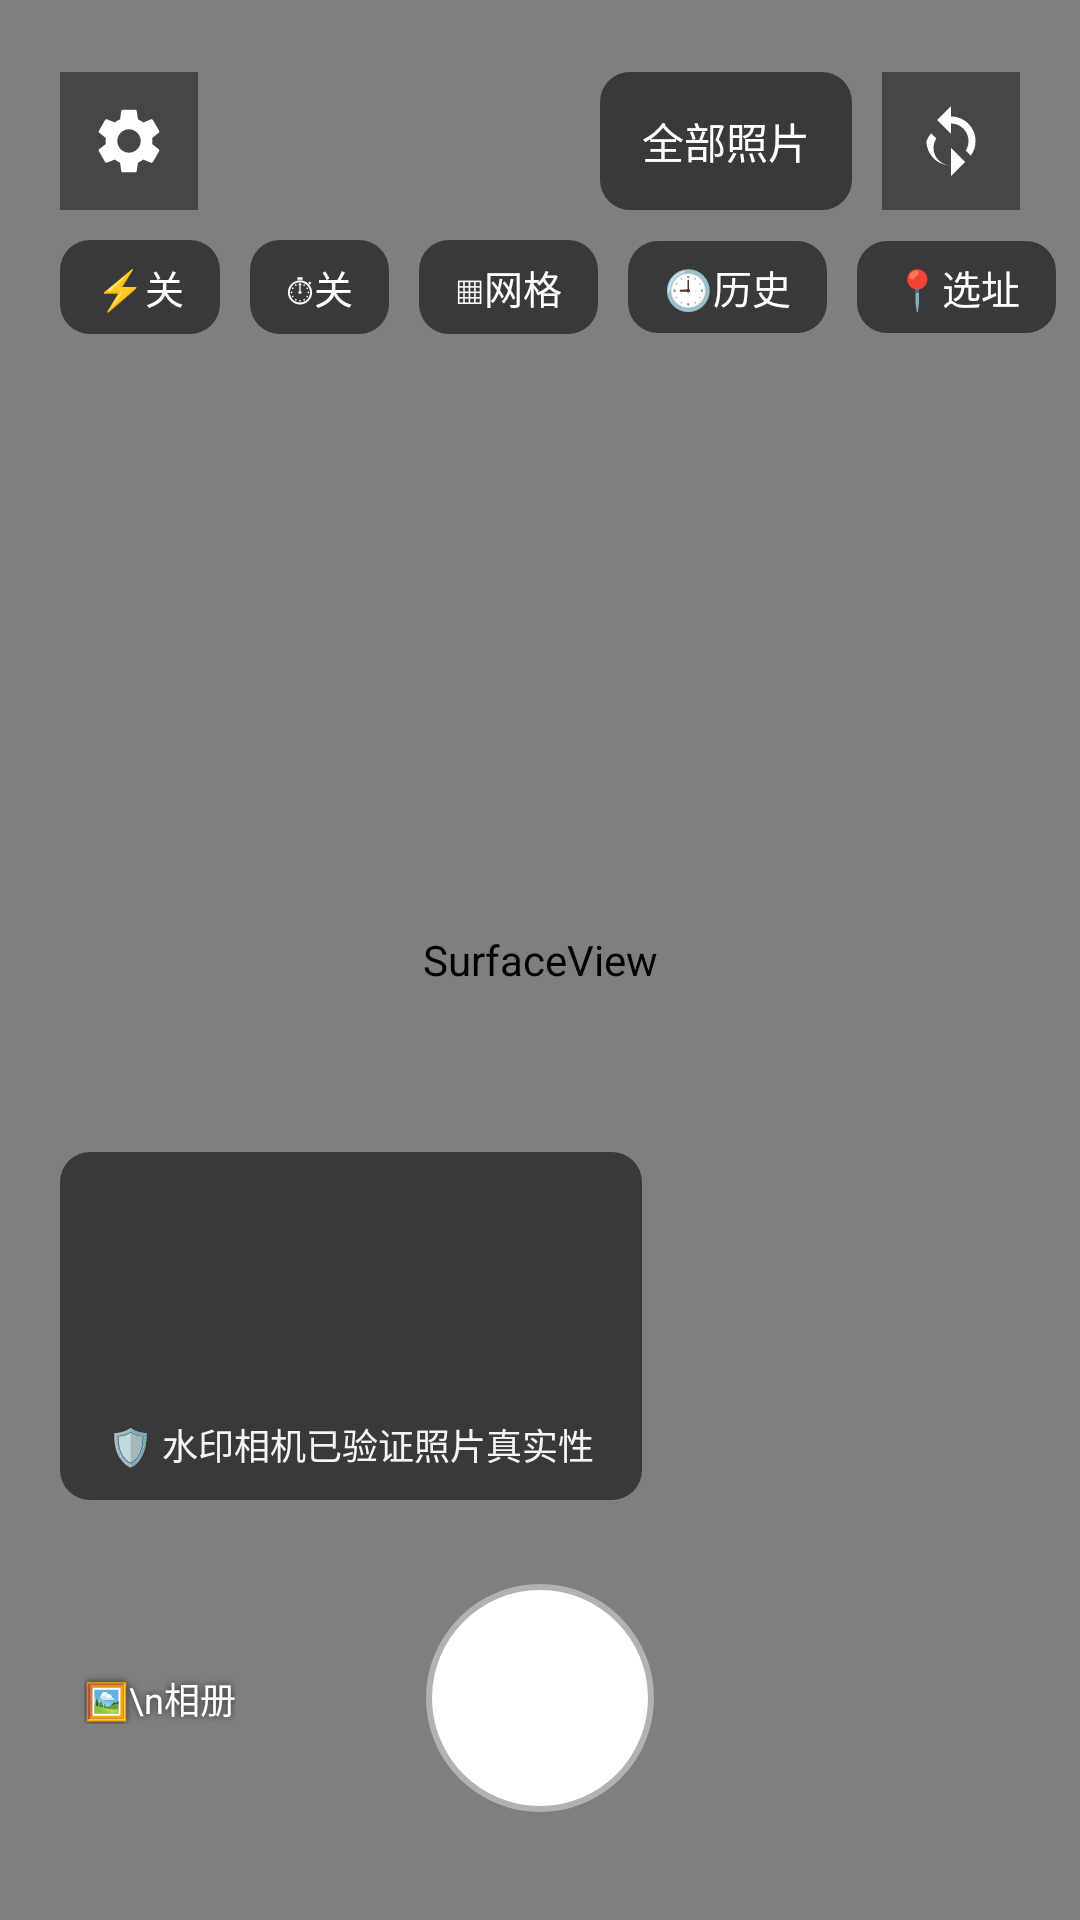

Icons on this 1080 × 1920 Android screen, each with its box as (x1, y1, x2, y2):
flip: (882, 72, 1020, 210)
settings: (60, 72, 198, 210)
